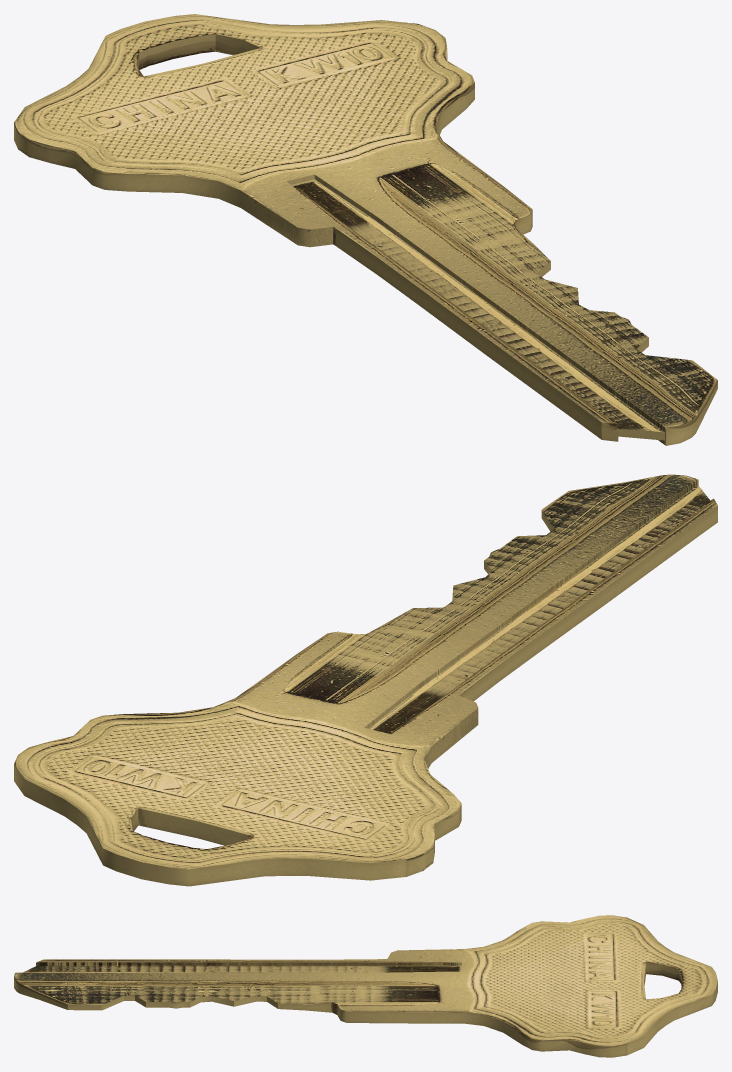
Rendered from key.fbx.
The picture shows the model from 3 angles, top to bottom: view 1: azimuth 30°, elevation 25°; view 2: azimuth 150°, elevation 25°; view 3: azimuth 270°, elevation 25°; orthographic projection. The views are drawn at different scales.
Visible parts, largest first — view 1: key; view 2: key; view 3: key.
Boxes of the visible parts, box(x1,y1,x2,y2) form: key: box(14, 14, 717, 445); key: box(14, 474, 717, 886); key: box(14, 915, 717, 1057).
Bounding box in the file's own units: 0.9519 × 0.0384 × 2.17.
1 material, 1 textured.
